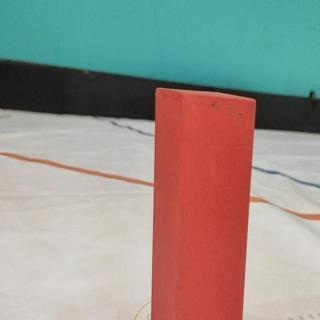redbox: (149, 87, 257, 320)
